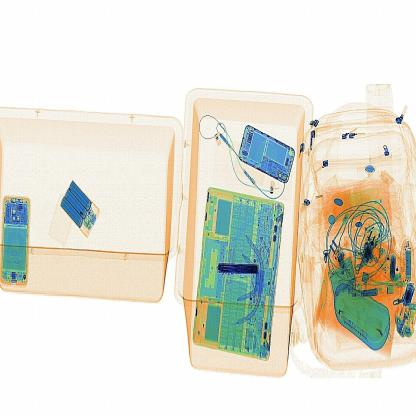scissors: (213, 262, 262, 280)
